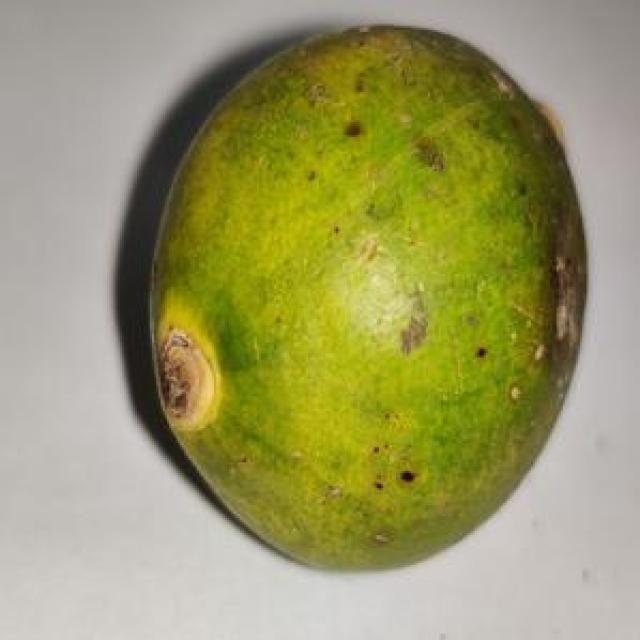good: (146, 24, 586, 576)
